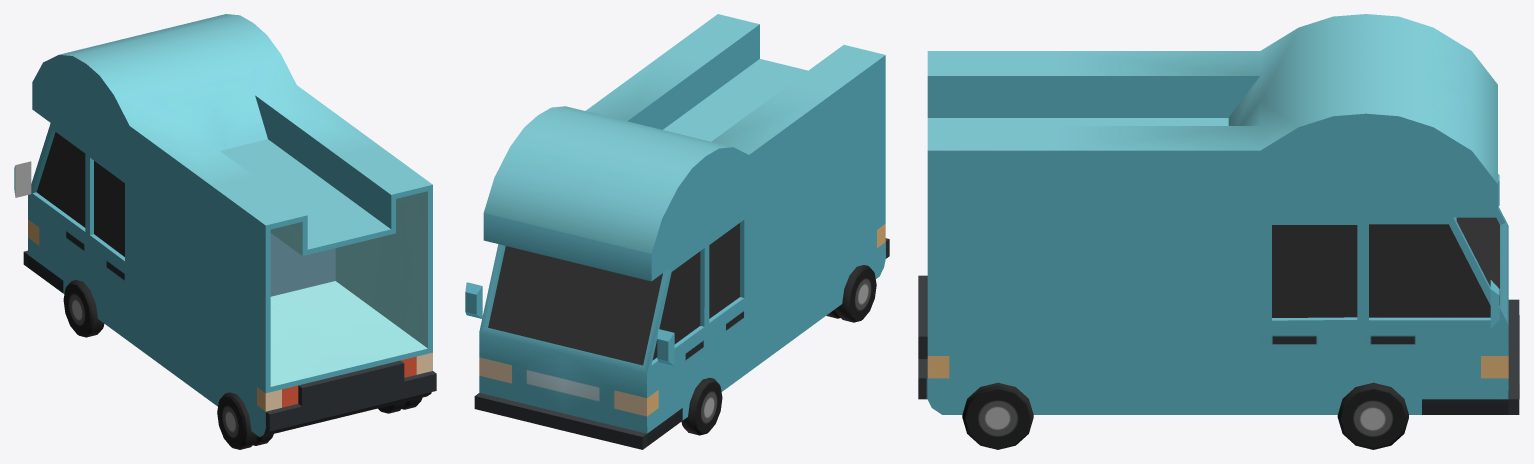
3 renders of one model, left to right at view 1: azimuth 30°, elevation 25°; view 2: azimuth 150°, elevation 25°; view 3: azimuth 270°, elevation 25°, orthographic. The views are drawn at different scales.
Parts seen in each view (by area): view 1: BI_RV_model; view 2: BI_RV_model; view 3: BI_RV_model.
Boxes of the visible parts, box(x1,y1,x2,y2) form: BI_RV_model: box(14, 14, 436, 449); BI_RV_model: box(465, 14, 889, 449); BI_RV_model: box(918, 14, 1519, 449).
Size of the model in its own units: 403 by 507 by 829.
